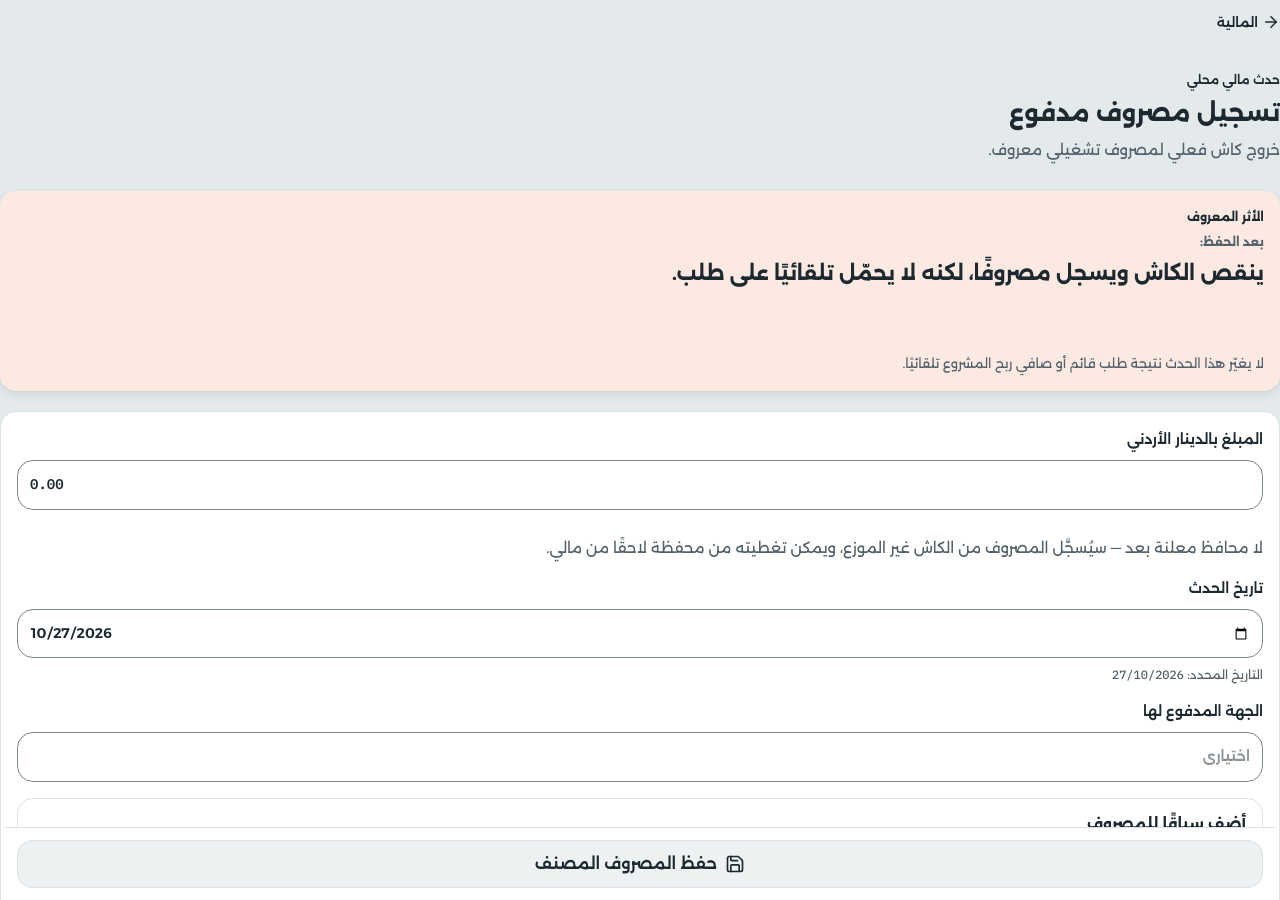
Test: FinancialEventEditor note requirement (U-04) › shows an Arabic message when the note is empty instead of reaching the domain
In the field labelled "المبلغ بالدينار الأردني": (640, 485) 17,460 -> 1263,510, type "25"
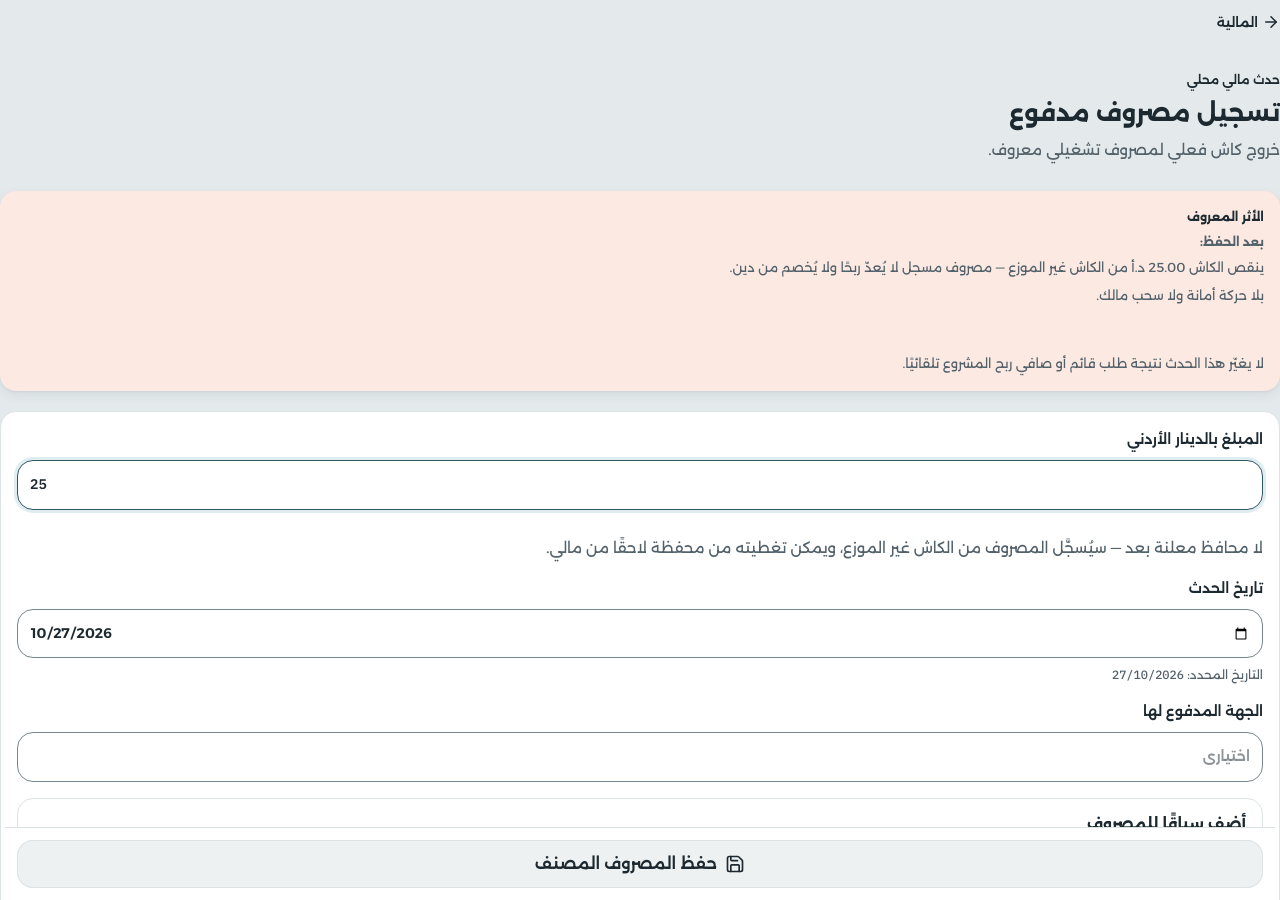
Click the button "حفظ المصروف المصنف": (640, 864) 17,840 -> 1263,888
(page scrolled)
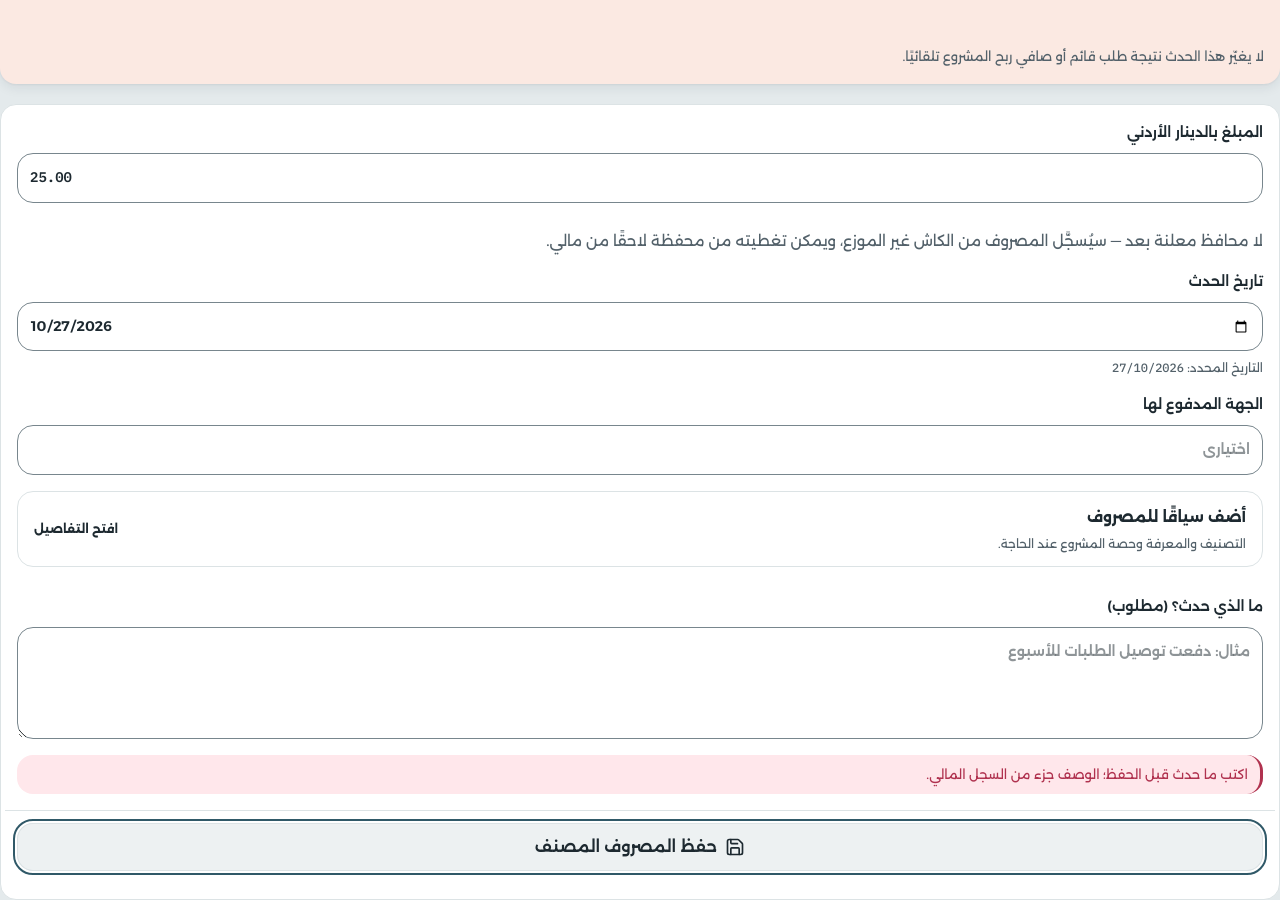
Now the text "اكتب ما حدث قبل الحفظ؛ الوصف جزء من السجل المالي." is shown, box 17,755 -> 1263,794
